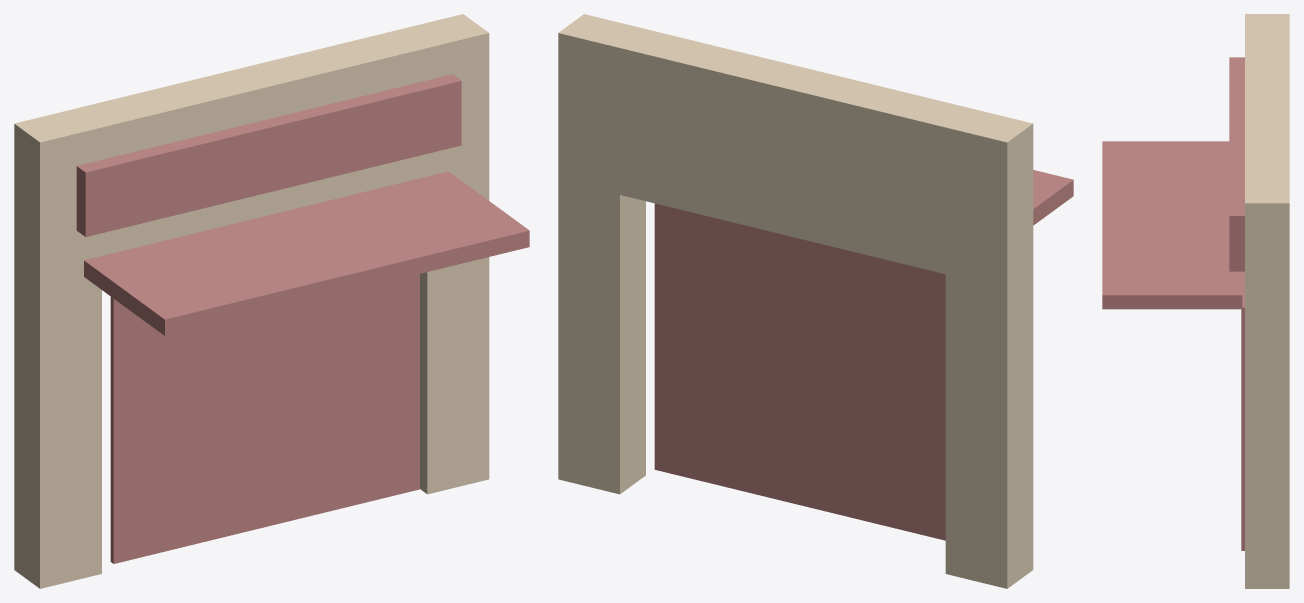
File: bh_souq_shop_fabric_01_lod0.glb
3 views of the same model, side by side, from view 1: azimuth 30°, elevation 25°; view 2: azimuth 150°, elevation 25°; view 3: azimuth 270°, elevation 25° (orthographic). The views are drawn at different scales.
Parts seen in each view (by area): view 1: bh_souq_shop_fabric_01_infill, bh_souq_shop_fabric_01_left, bh_souq_shop_fabric_01_awning, bh_souq_shop_fabric_01_fascia, bh_souq_shop_fabric_01_top, bh_souq_shop_fabric_01_right; view 2: bh_souq_shop_fabric_01_infill, bh_souq_shop_fabric_01_top, bh_souq_shop_fabric_01_left, bh_souq_shop_fabric_01_right, bh_souq_shop_fabric_01_awning; view 3: bh_souq_shop_fabric_01_awning, bh_souq_shop_fabric_01_right, bh_souq_shop_fabric_01_top, bh_souq_shop_fabric_01_fascia, bh_souq_shop_fabric_01_left, bh_souq_shop_fabric_01_infill.
Boxes of the visible parts, x1,y1,x2,y2 form: bh_souq_shop_fabric_01_infill: (110,274,419,563); bh_souq_shop_fabric_01_left: (14,108,101,588); bh_souq_shop_fabric_01_awning: (84,171,529,335); bh_souq_shop_fabric_01_fascia: (76,74,461,236); bh_souq_shop_fabric_01_top: (76,29,427,255); bh_souq_shop_fabric_01_right: (402,14,489,494); bh_souq_shop_fabric_01_infill: (654,203,945,540); bh_souq_shop_fabric_01_top: (620,29,970,274); bh_souq_shop_fabric_01_left: (945,108,1033,588); bh_souq_shop_fabric_01_right: (558,14,645,494); bh_souq_shop_fabric_01_awning: (1033,170,1073,225); bh_souq_shop_fabric_01_awning: (1102,141,1242,309); bh_souq_shop_fabric_01_right: (1245,177,1289,588); bh_souq_shop_fabric_01_top: (1245,40,1289,177); bh_souq_shop_fabric_01_fascia: (1229,57,1244,271); bh_souq_shop_fabric_01_left: (1245,14,1289,39); bh_souq_shop_fabric_01_infill: (1241,271,1244,550).
Size of the model in its own units: 4 by 3.8 by 1.68.
